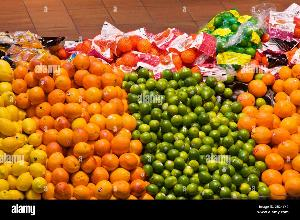lemon: (0, 47, 46, 199), (0, 118, 16, 136)
lime: (122, 57, 266, 201), (210, 8, 266, 66), (231, 101, 243, 114), (246, 47, 256, 57)
orange: (29, 55, 143, 196), (56, 20, 216, 74), (244, 56, 300, 200), (105, 114, 123, 132), (284, 78, 300, 95), (117, 37, 133, 52)
